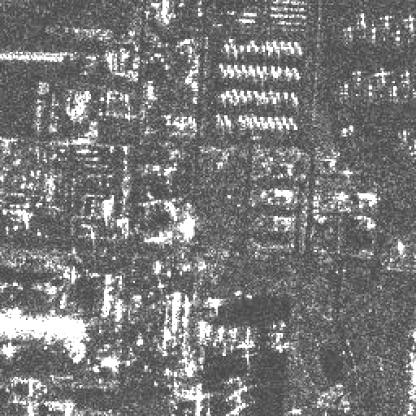airplane: (372, 66, 388, 84), (351, 68, 364, 90), (338, 80, 351, 96), (367, 25, 379, 42), (342, 24, 354, 40), (380, 10, 392, 26), (356, 10, 367, 26), (392, 26, 403, 42), (400, 70, 411, 86), (388, 83, 400, 97), (403, 13, 414, 28), (364, 83, 375, 97), (237, 42, 244, 56), (233, 94, 240, 106), (231, 42, 237, 56), (291, 65, 299, 75), (267, 89, 273, 101), (274, 89, 280, 101), (286, 68, 292, 80), (278, 37, 284, 49), (219, 92, 226, 102), (224, 89, 231, 99), (281, 91, 288, 101), (258, 89, 265, 99), (245, 89, 252, 99), (232, 63, 239, 73), (294, 70, 301, 80), (271, 70, 278, 80), (223, 113, 229, 124), (257, 114, 263, 125), (280, 114, 286, 125), (230, 87, 236, 98), (226, 61, 232, 72), (240, 61, 246, 72), (223, 41, 229, 52), (274, 44, 280, 55), (268, 65, 276, 73), (242, 112, 247, 124), (266, 115, 272, 125), (291, 120, 297, 130), (291, 96, 297, 106), (254, 94, 260, 104), (283, 65, 289, 75), (258, 68, 264, 78), (249, 37, 255, 47), (267, 44, 273, 54), (282, 44, 288, 54), (289, 91, 296, 99), (229, 68, 236, 76), (235, 113, 240, 124), (247, 119, 252, 130), (250, 113, 255, 124), (228, 36, 233, 47), (289, 44, 294, 55), (254, 42, 260, 51), (219, 118, 224, 128), (226, 118, 231, 128), (239, 118, 244, 128), (273, 115, 278, 125), (276, 120, 281, 130), (228, 94, 233, 104), (252, 89, 257, 99), (237, 66, 242, 76), (276, 65, 281, 75), (247, 63, 252, 73), (255, 63, 260, 73), (245, 42, 250, 52), (260, 42, 265, 52), (214, 114, 220, 122), (283, 122, 289, 130), (262, 96, 268, 104), (241, 94, 247, 102), (218, 62, 224, 70), (221, 68, 227, 76), (292, 39, 298, 47), (296, 44, 300, 55), (255, 120, 260, 128), (262, 120, 266, 130), (270, 120, 274, 130), (272, 96, 276, 106), (239, 90, 244, 98), (262, 65, 266, 75), (250, 68, 255, 76), (265, 38, 270, 46), (272, 37, 276, 47), (286, 39, 291, 47), (288, 115, 292, 124)
